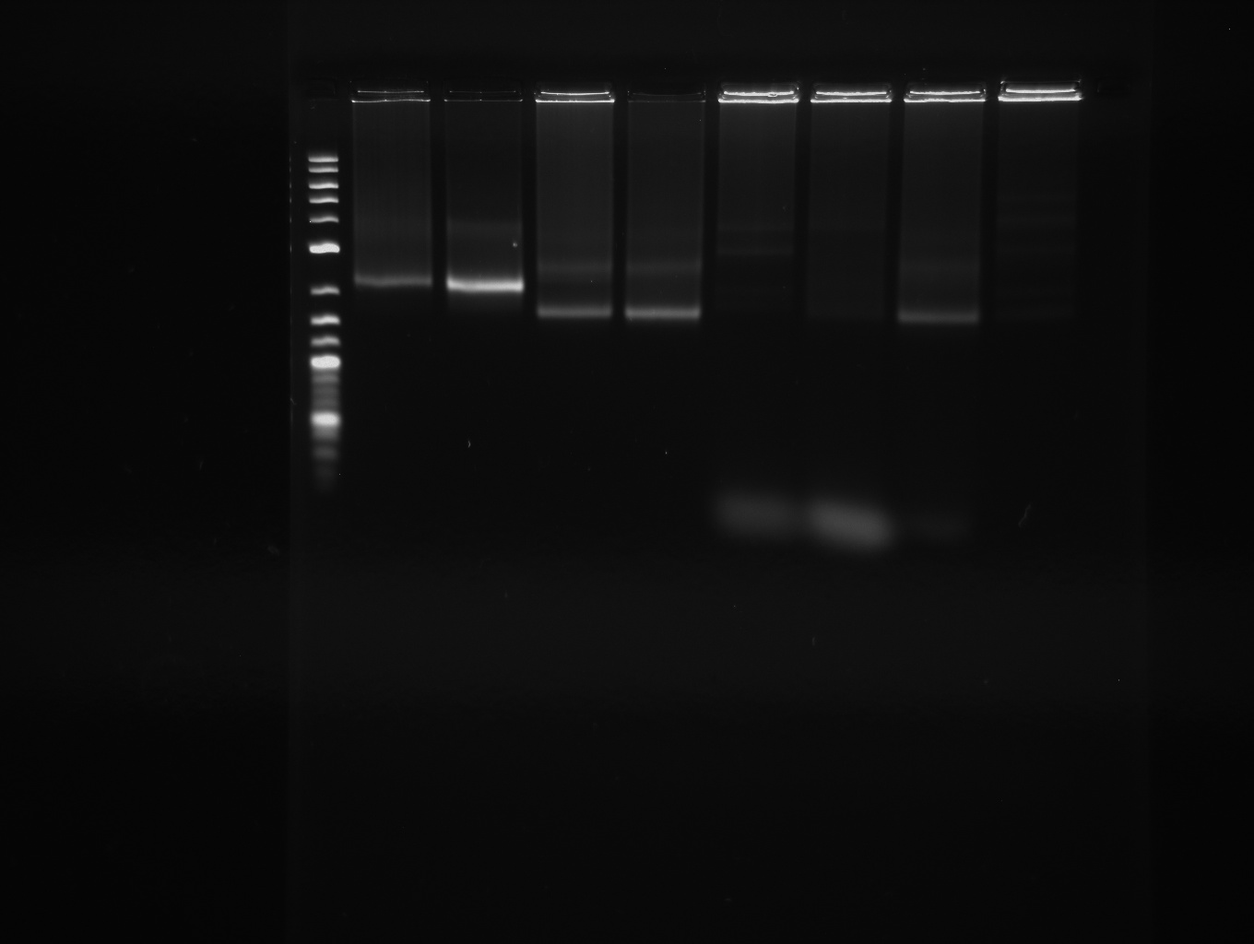Lane: (998, 62, 1090, 944), (809, 62, 897, 944), (528, 81, 618, 939), (904, 60, 991, 944), (439, 68, 521, 944), (719, 65, 801, 936), (622, 78, 703, 944), (355, 83, 428, 944)
ladder: (295, 78, 345, 940)
